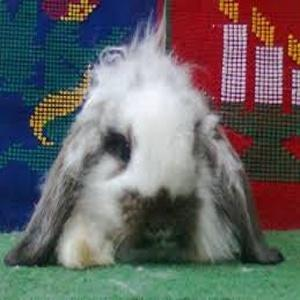rabbit: (4, 32, 284, 271)
